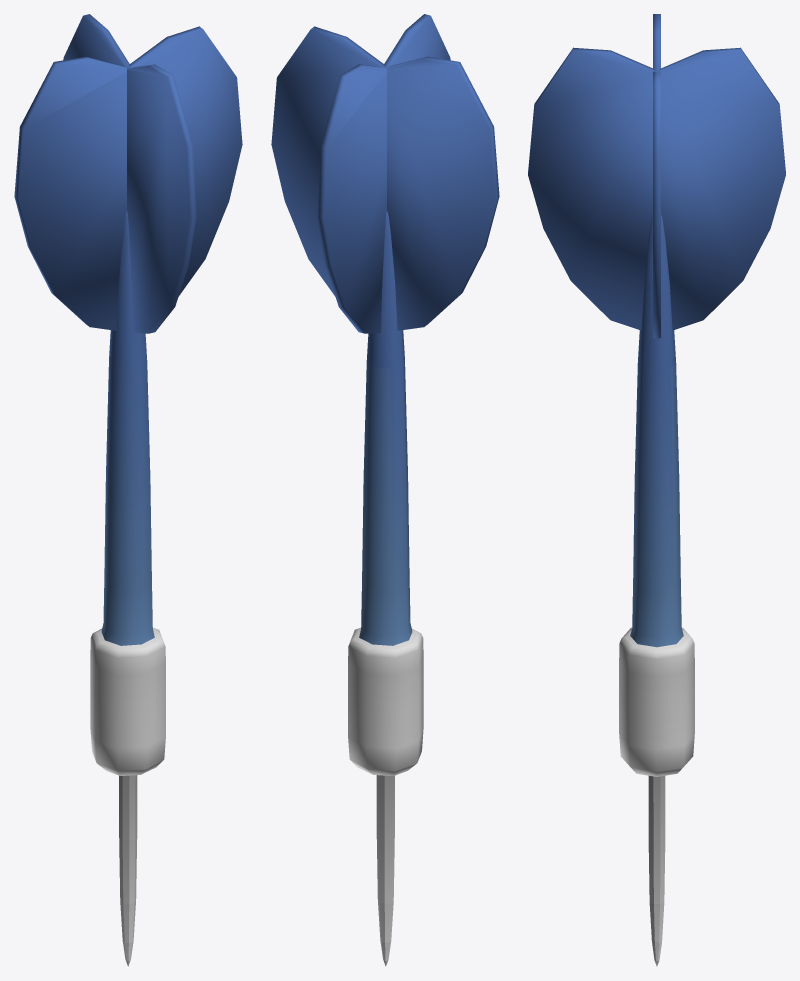
The model's file is SM_dart_blue_dark.fbx.
3 views of the same model, side by side, from view 1: azimuth 30°, elevation 25°; view 2: azimuth 150°, elevation 25°; view 3: azimuth 270°, elevation 25° (orthographic).
Visible parts, largest first — view 1: Cube.012; view 2: Cube.012; view 3: Cube.012.
Part boxes in pixels (<box>): Cube.012: <box>14,14,242,966</box>; Cube.012: <box>271,14,499,966</box>; Cube.012: <box>528,14,785,966</box>.
Size of the model in its own units: 388 by 1521 by 388.
